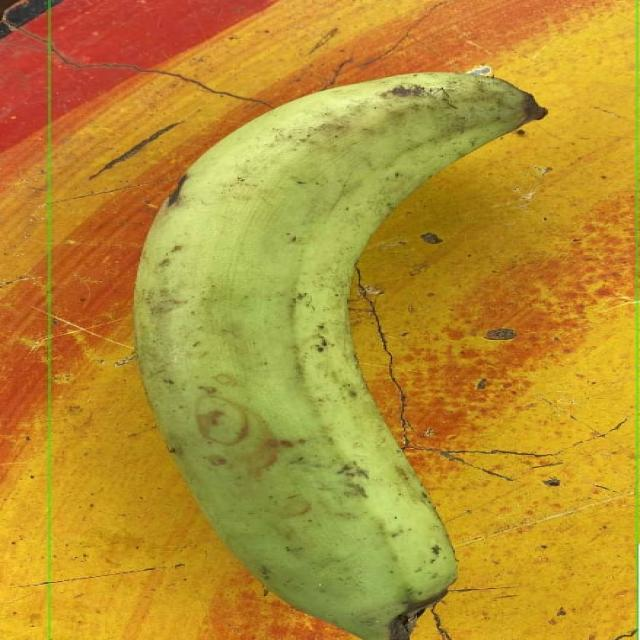Raw: (66, 49, 616, 626)
